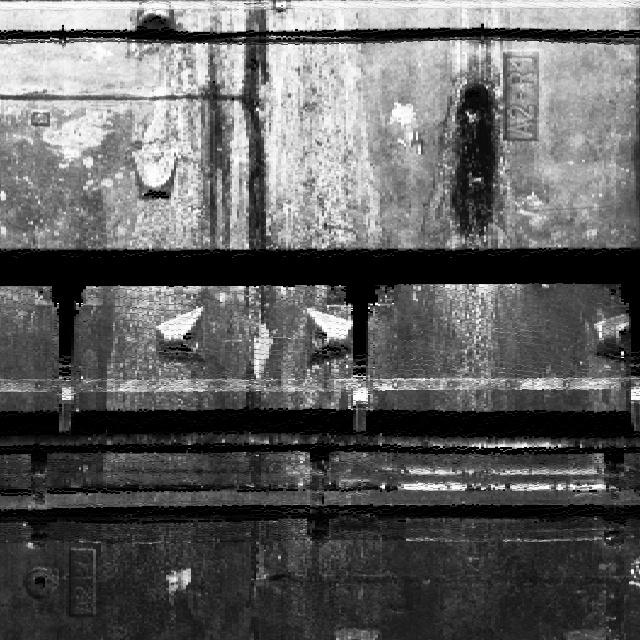leakage: (193, 2, 285, 249), (435, 73, 507, 240)
